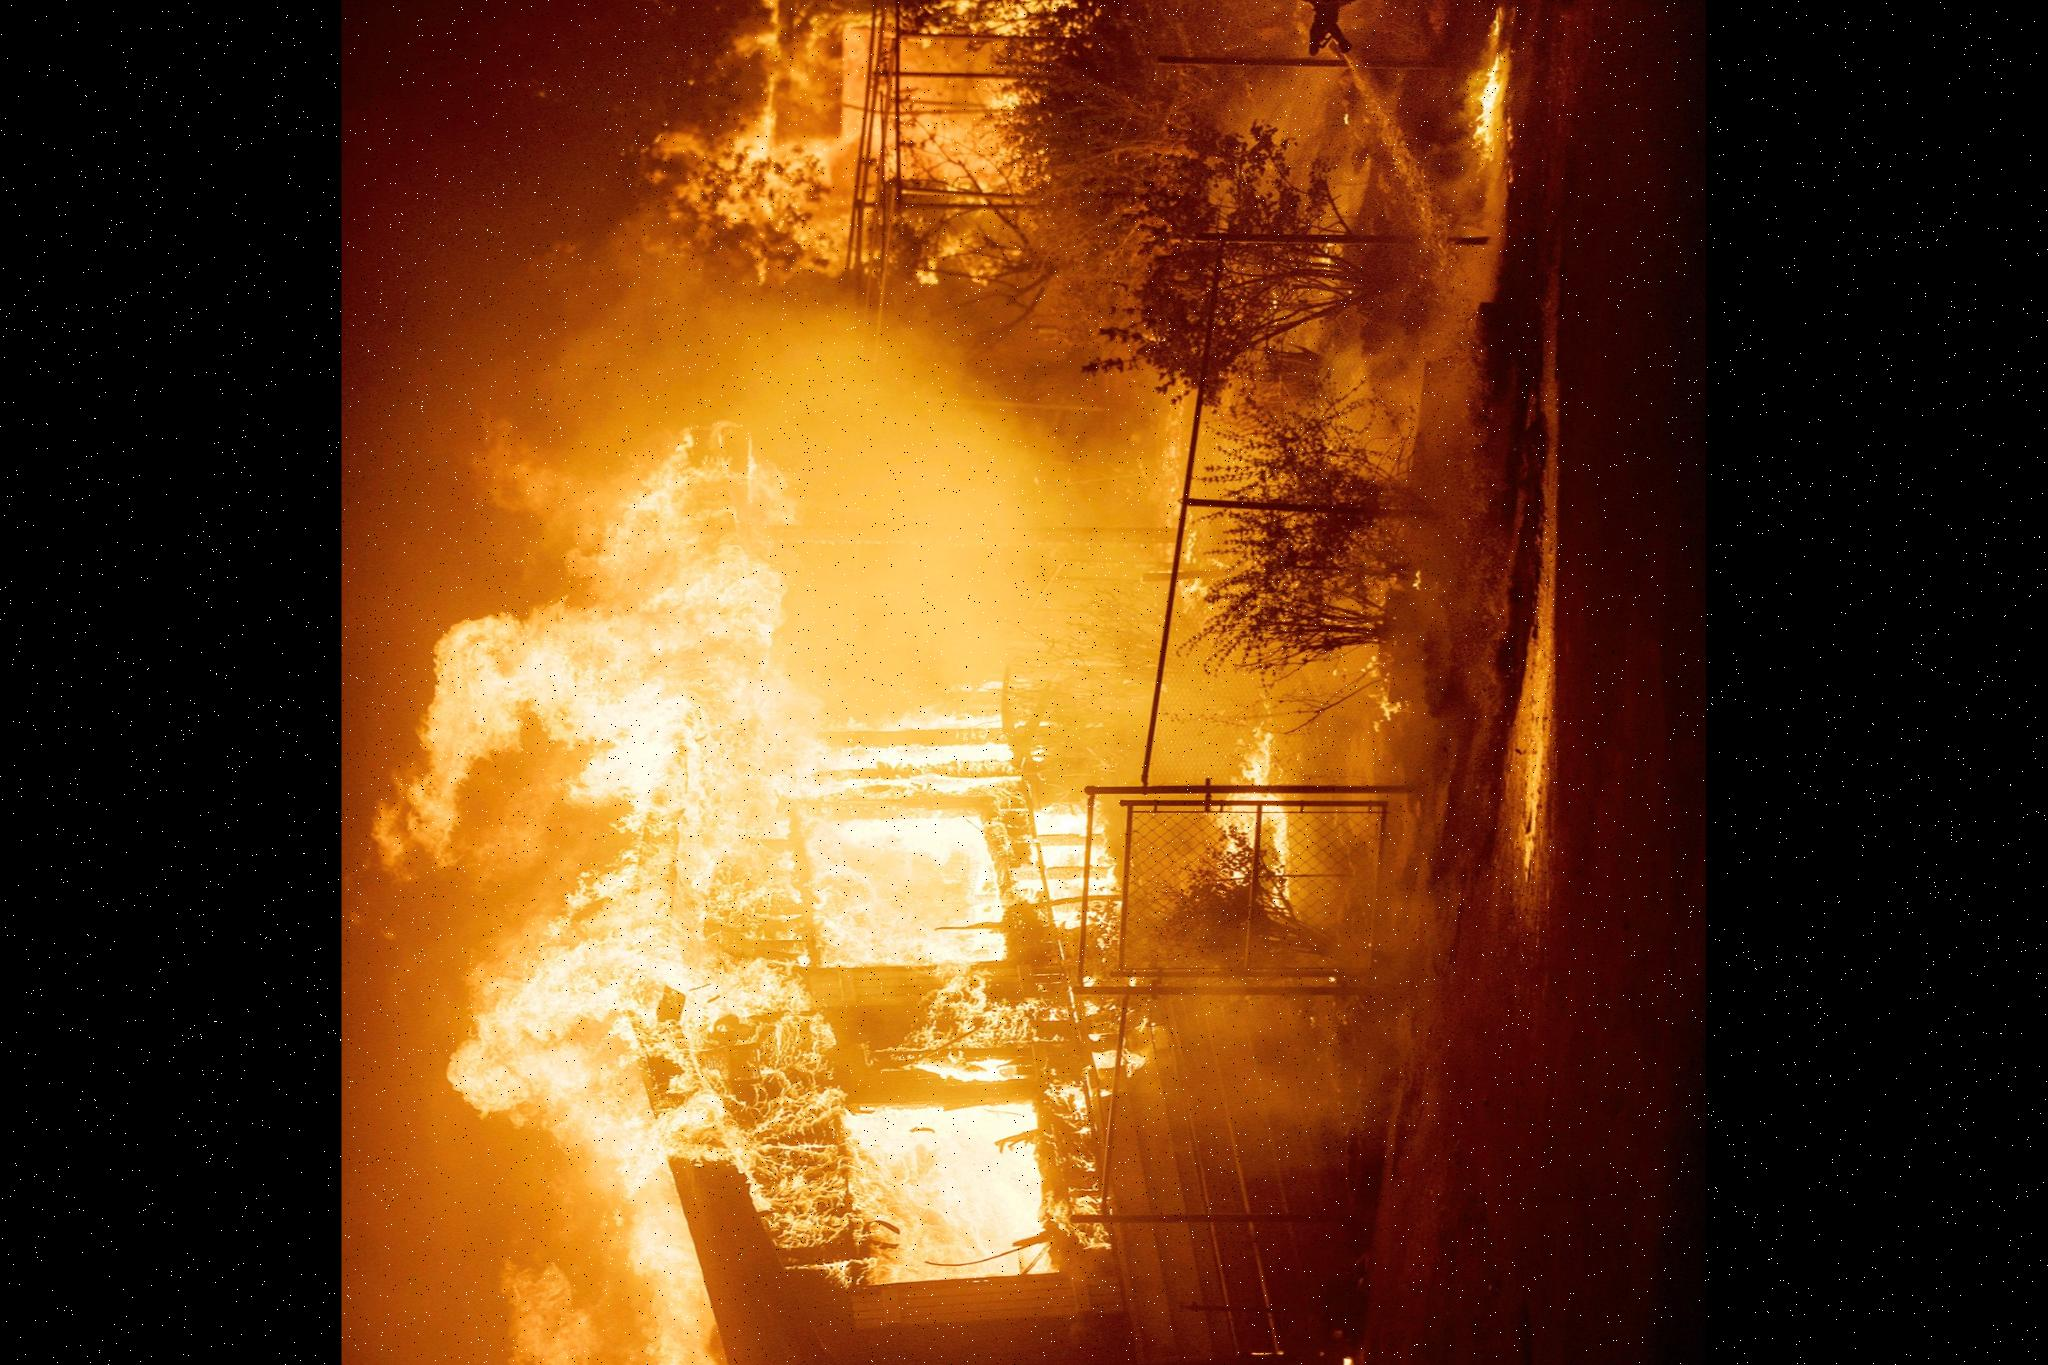fire: (627, 0, 1209, 305)
